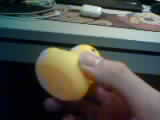duck: (35, 38, 100, 97)
